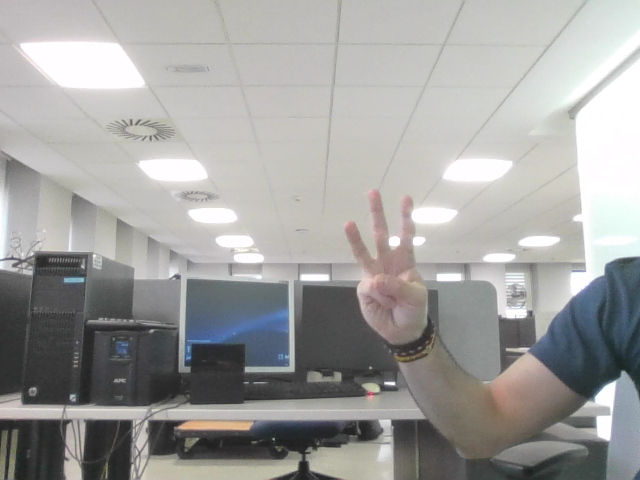3Dedos: (353, 202, 416, 311)
